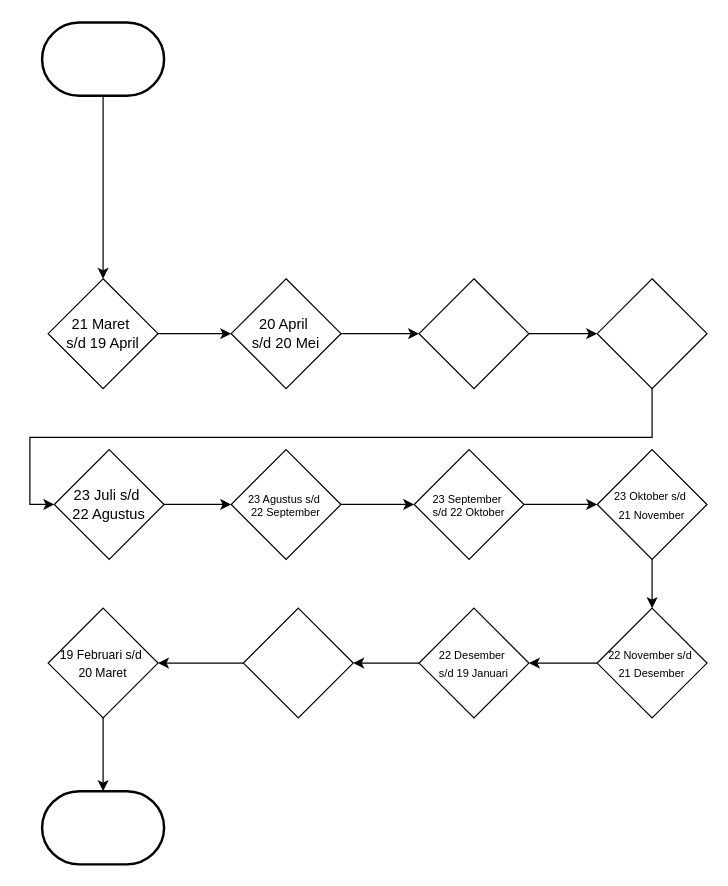
Some shapes in this 728 by 886 pixel diagram are drawn without their labels. The shapes that lost their labels are listed below. From the top down, each one's box as (x1, y1, x2, y2) in pixels, then its label:
(40, 21, 165, 96): Start
(418, 278, 529, 389): 21 Mei s/d 20 Juni
(596, 278, 707, 389): 21 Juni s/d 22 Juli
(242, 607, 353, 718): 20 Januari s/d 18 Februari
(40, 789, 165, 865): End
